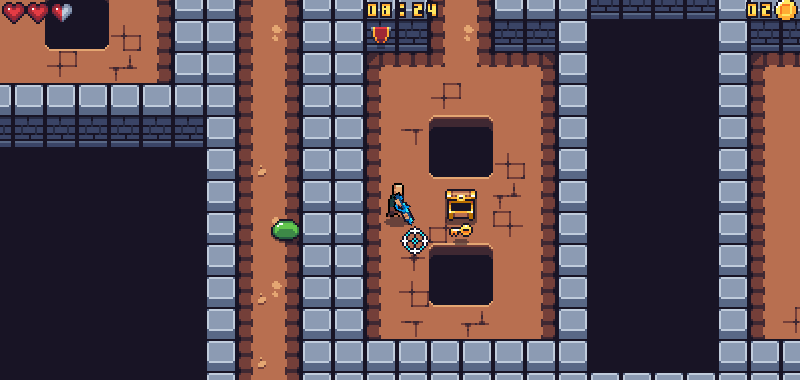enemy_slug: (268, 216, 304, 241)
key: (445, 223, 477, 239)
treasury_open: (444, 184, 478, 221)
